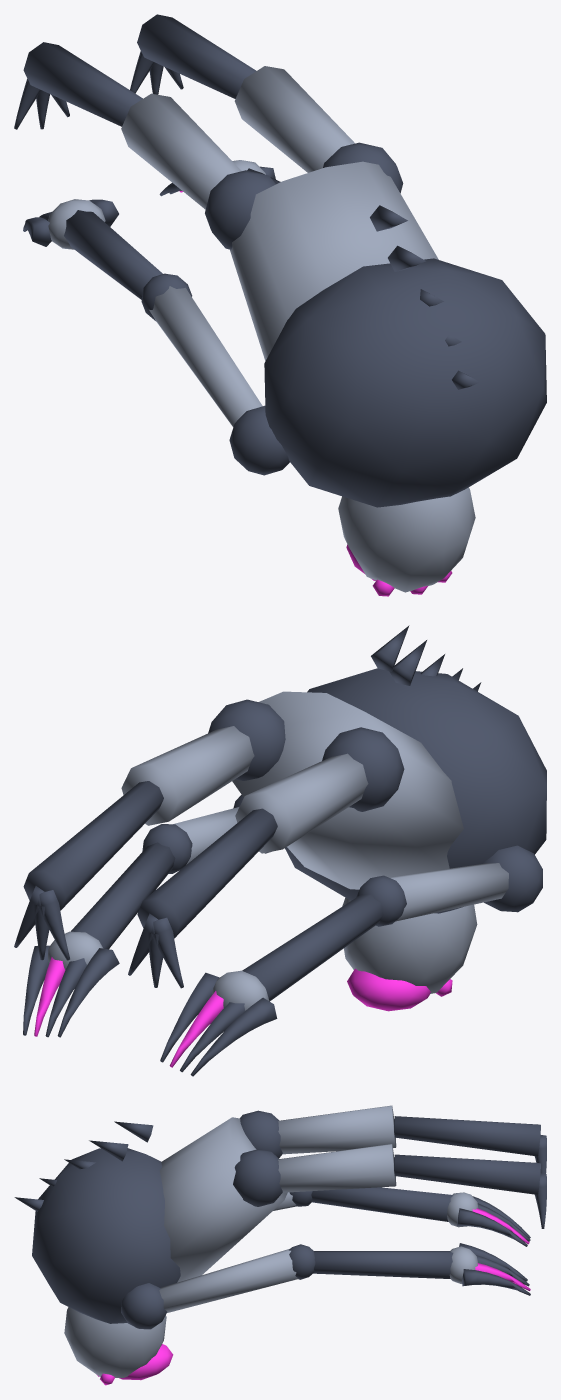
Rendered from shooter-ghoul.glb.
The picture shows the model from 3 angles, top to bottom: view 1: azimuth 30°, elevation 25°; view 2: azimuth 150°, elevation 25°; view 3: azimuth 270°, elevation 25°; orthographic projection. The views are drawn at different scales.
Visible parts, largest first — view 1: Body Mesh, Head Mesh, LegB 0 Mesh, ClawR Mesh, LegA 0 Mesh, ClawR Elbow Mesh, LegB 0 Knee Mesh, LegA 0 Knee Mesh; view 2: Body Mesh, ClawR Elbow Mesh, ClawL Elbow Mesh, LegB 0 Mesh, Head Mesh, LegA 0 Mesh, LegB 0 Knee Mesh, LegA 0 Knee Mesh, ClawR Mesh, ClawL Mesh; view 3: Body Mesh, LegA 0 Mesh, ClawL Elbow Mesh, LegB 0 Mesh, ClawL Mesh, ClawR Elbow Mesh, Head Mesh, LegA 0 Knee Mesh, LegB 0 Knee Mesh.
Boxes of the visible parts, bbox=[...] form: Body Mesh: bbox=[230, 161, 546, 507]; Head Mesh: bbox=[338, 487, 475, 596]; LegB 0 Mesh: bbox=[121, 93, 275, 249]; ClawR Mesh: bbox=[149, 286, 289, 475]; LegA 0 Mesh: bbox=[234, 66, 403, 193]; ClawR Elbow Mesh: bbox=[23, 199, 192, 320]; LegB 0 Knee Mesh: bbox=[14, 42, 142, 129]; LegA 0 Knee Mesh: bbox=[130, 14, 256, 98]; Body Mesh: bbox=[232, 625, 546, 913]; ClawR Elbow Mesh: bbox=[160, 875, 406, 1076]; ClawL Elbow Mesh: bbox=[23, 824, 192, 1037]; LegB 0 Mesh: bbox=[235, 727, 404, 853]; Head Mesh: bbox=[342, 897, 477, 1011]; LegA 0 Mesh: bbox=[121, 699, 285, 825]; LegB 0 Knee Mesh: bbox=[128, 808, 277, 988]; LegA 0 Knee Mesh: bbox=[14, 781, 163, 960]; ClawR Mesh: bbox=[389, 845, 542, 921]; ClawL Mesh: bbox=[173, 795, 271, 864]; Body Mesh: bbox=[14, 1117, 287, 1323]; LegA 0 Mesh: bbox=[233, 1144, 396, 1206]; ClawL Elbow Mesh: bbox=[289, 1243, 530, 1295]; LegB 0 Mesh: bbox=[240, 1105, 396, 1158]; ClawL Mesh: bbox=[121, 1249, 298, 1329]; ClawR Elbow Mesh: bbox=[289, 1187, 530, 1246]; Head Mesh: bbox=[64, 1307, 173, 1385]; LegA 0 Knee Mesh: bbox=[394, 1154, 546, 1228]; LegB 0 Knee Mesh: bbox=[394, 1116, 546, 1173].
Size of the model in its own units: 0.7478 by 0.8652 by 1.64.
Materials: 2 (2 with a texture image).
